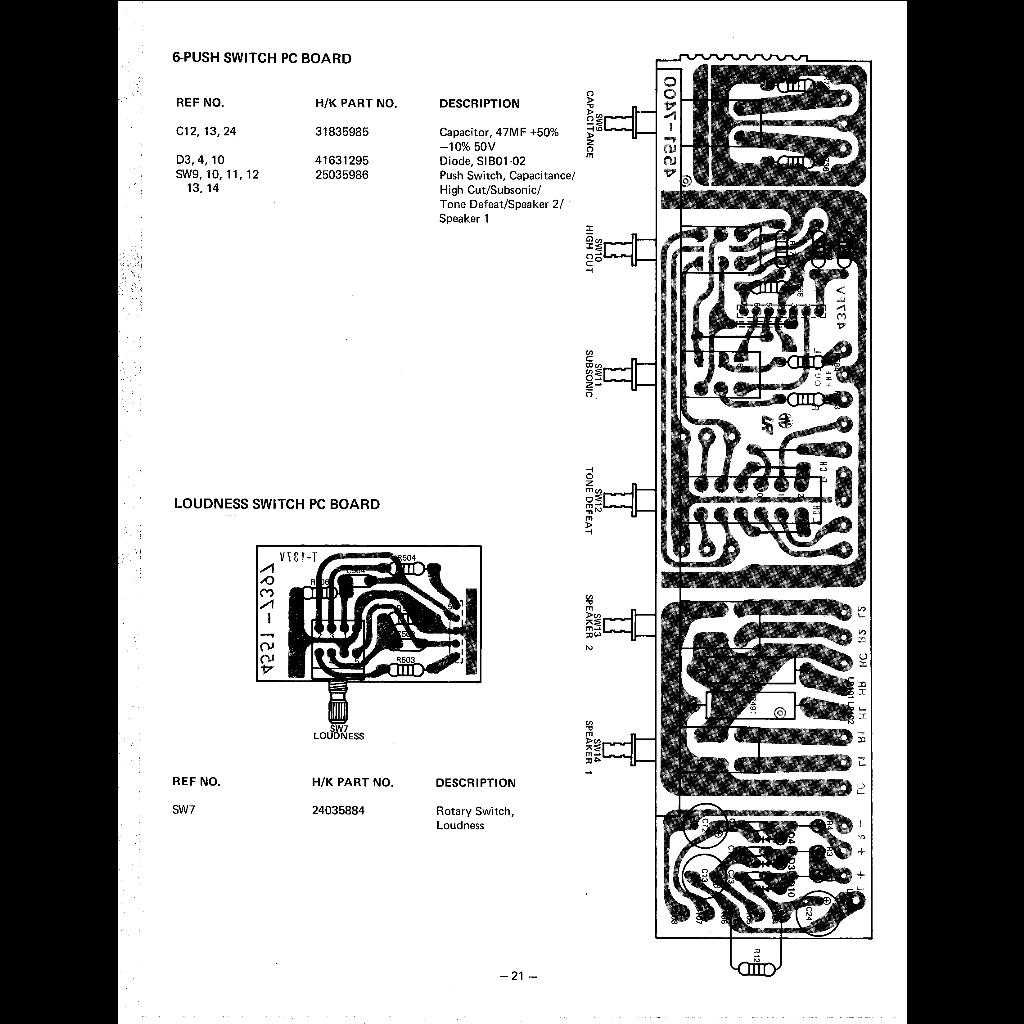Board: (578, 46, 876, 980), (254, 540, 484, 744)
Table: (170, 90, 582, 256)
